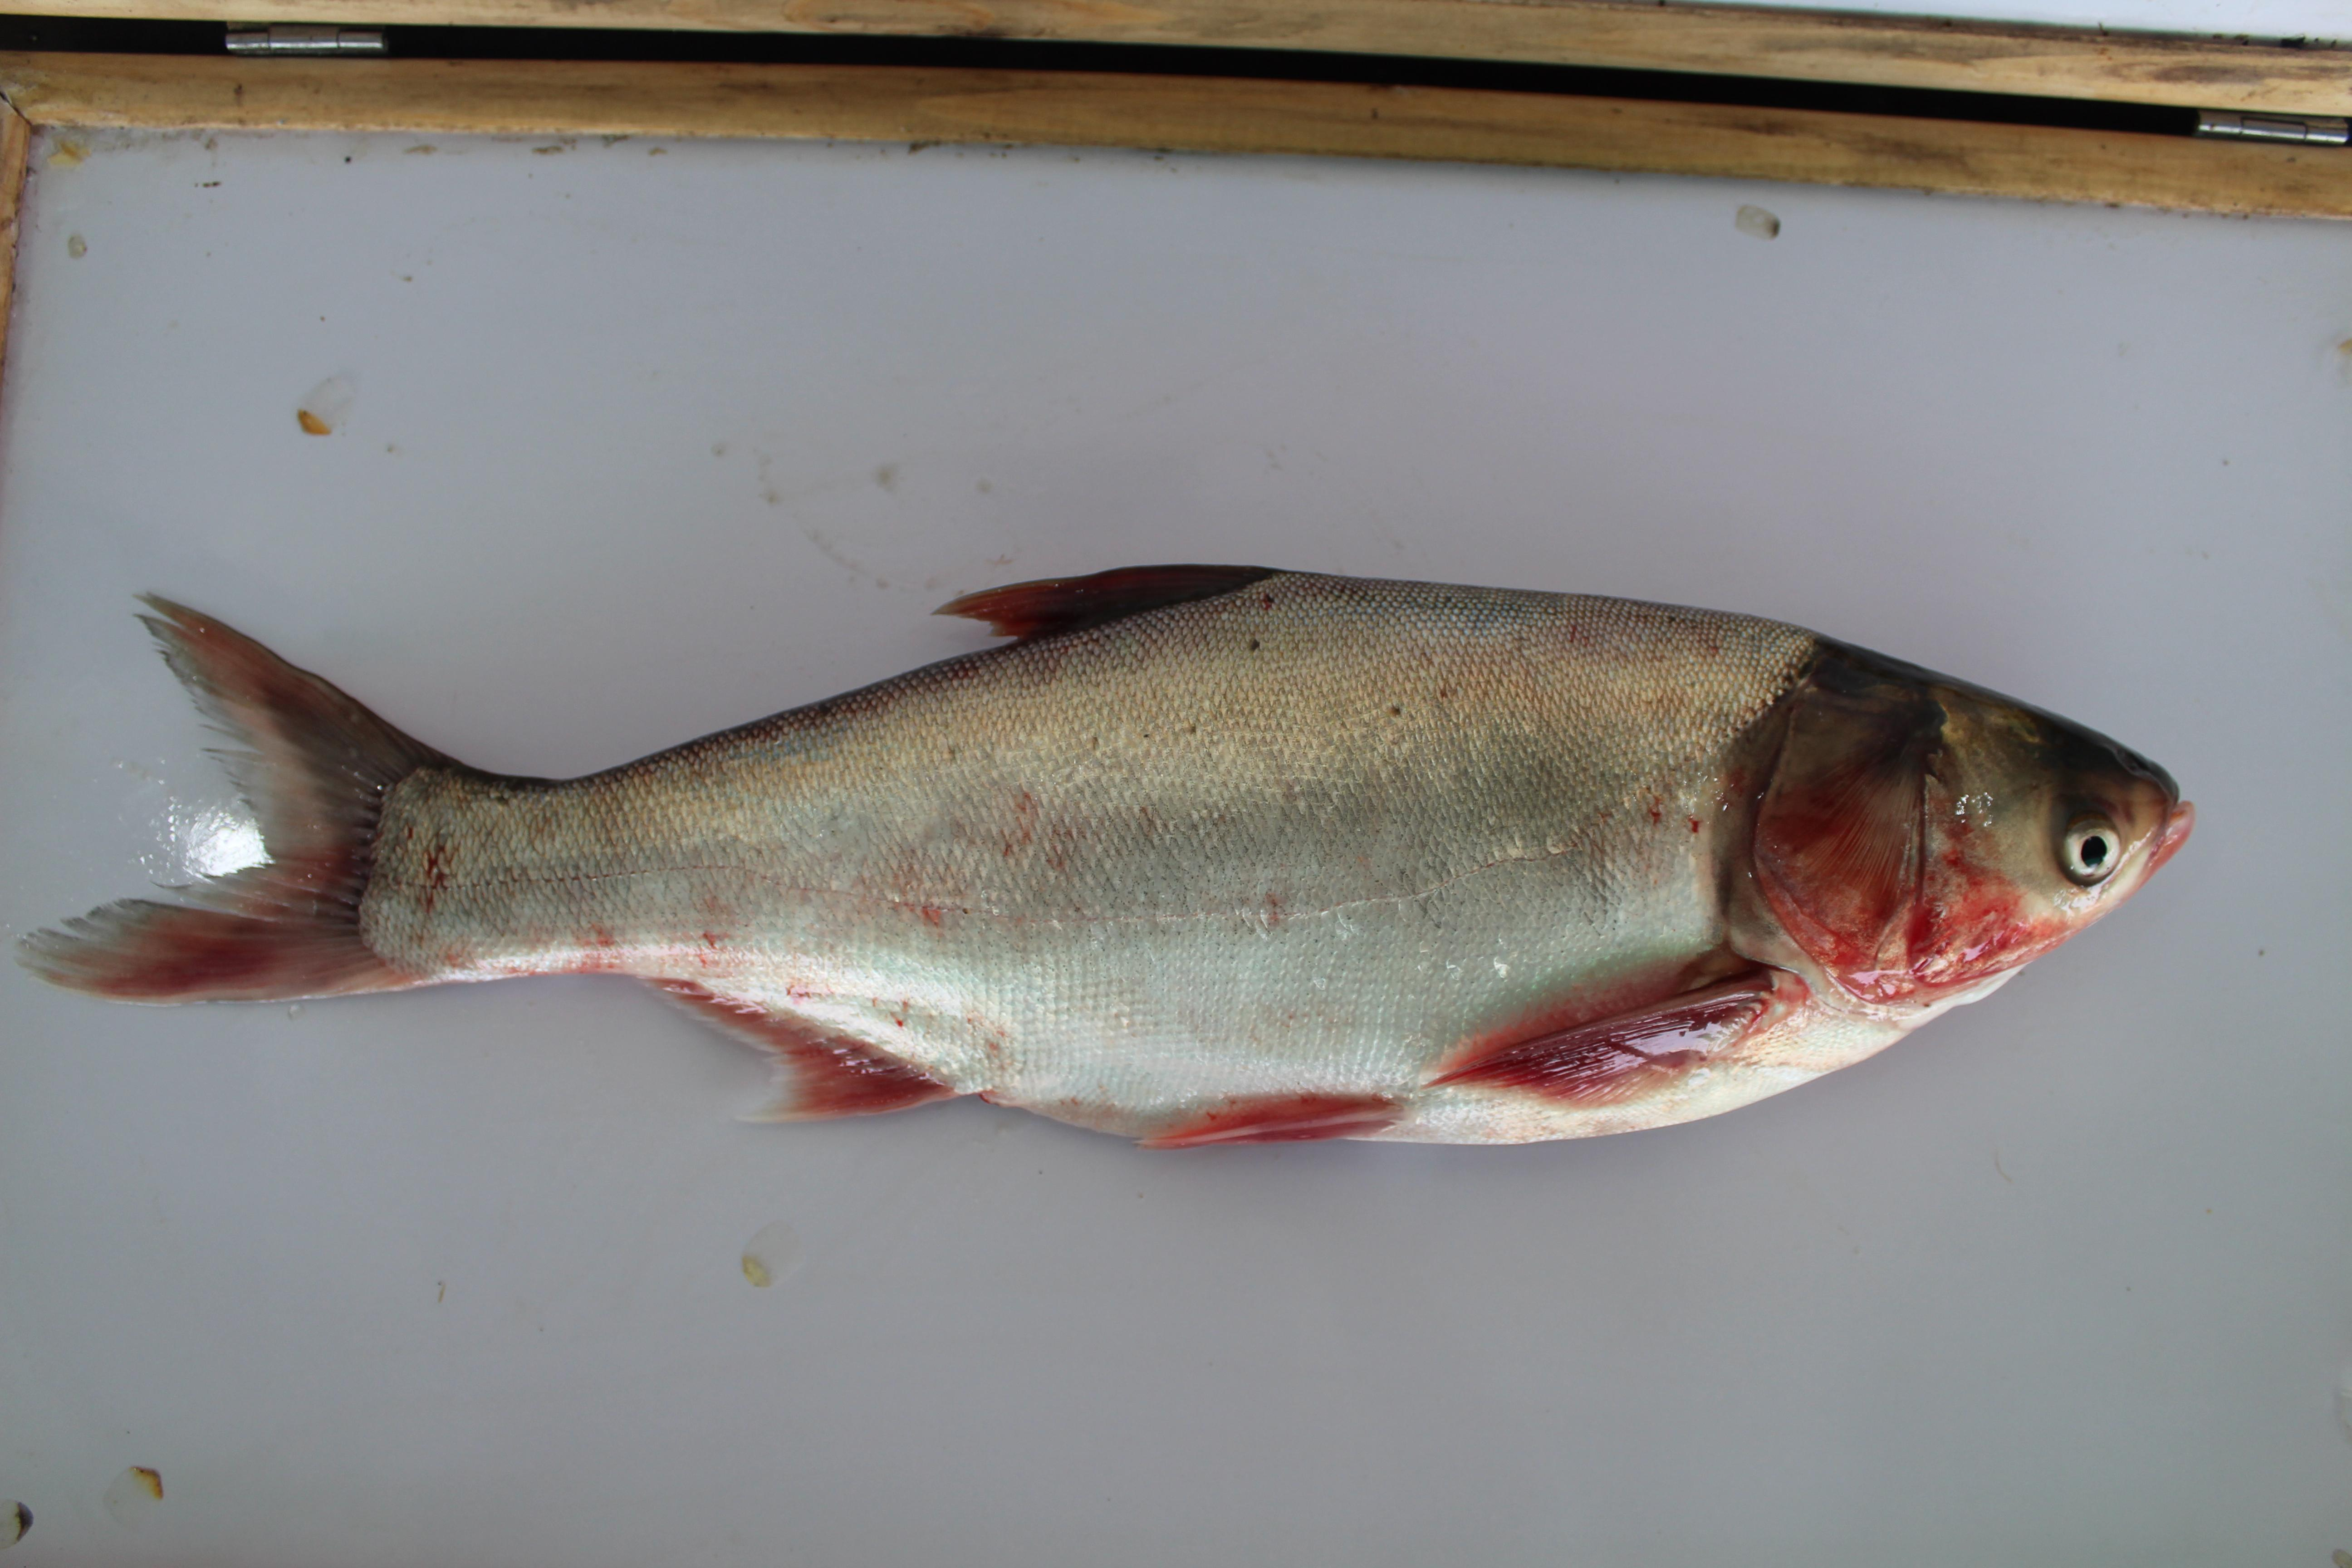Silver Carp: (33, 549, 2214, 1166)
